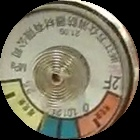green: (38, 113, 82, 140)
red: (78, 90, 124, 139)
yellow: (2, 79, 48, 132)
